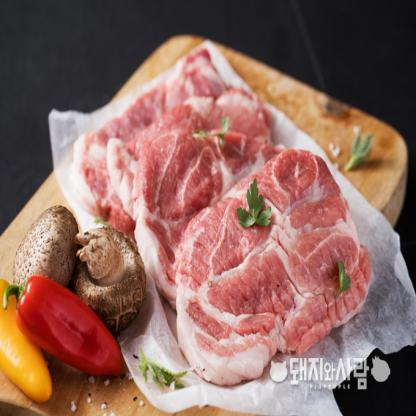pork: (88, 97, 378, 360)
